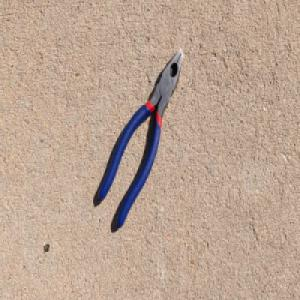Pliers: (97, 48, 184, 231)
